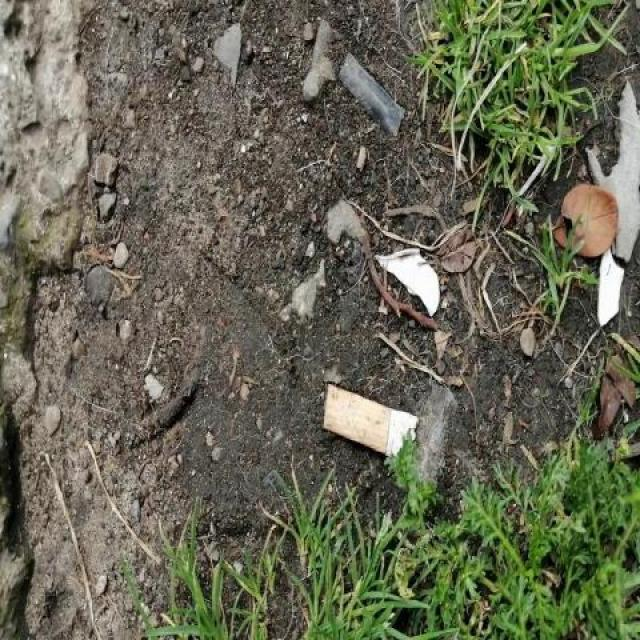non-organic waste: (318, 376, 425, 464)
